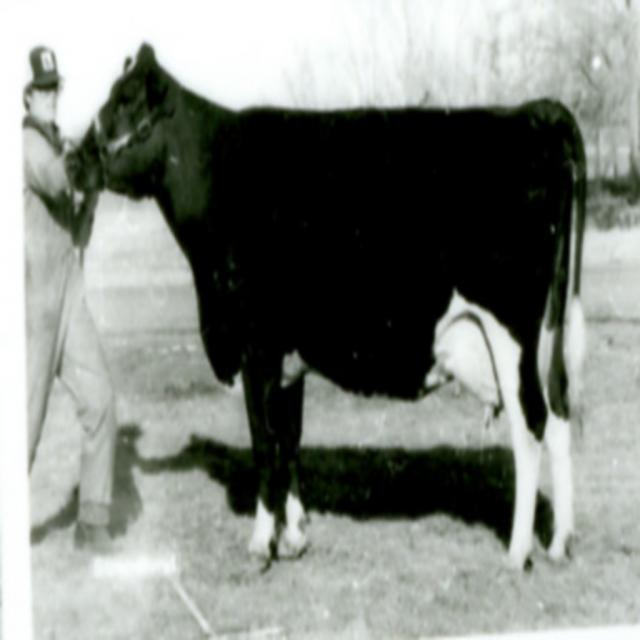Cattle: (58, 34, 585, 568)
